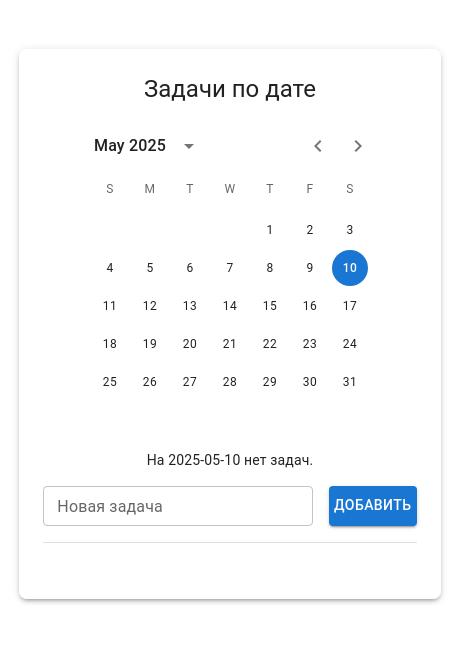
Todo Page › 3. Предупреждение при добавлении пустого поля
The image size is (466, 653).
Click the button "Добавить".
click(373, 506)  # box [329,486,417,526]
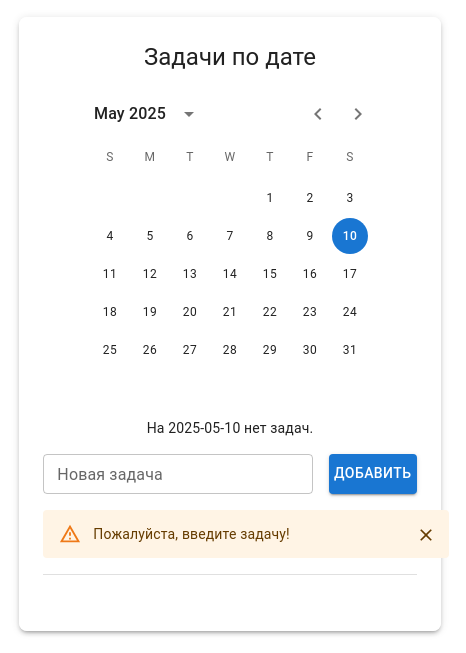
Now the text "Пожалуйста, введите задачу!" is shown, box [93,526,290,542]
